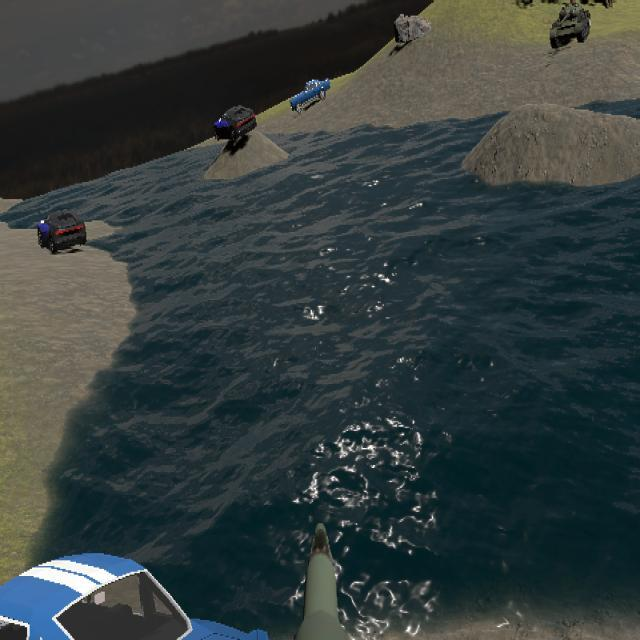Tank: (549, 2, 591, 49)
car: (3, 552, 305, 639), (37, 208, 87, 255), (214, 105, 257, 143), (289, 78, 329, 113)
